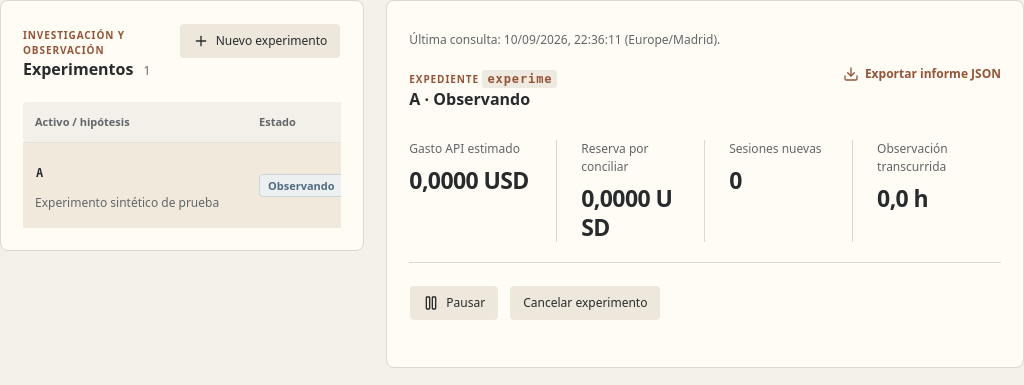
Controles del expediente de experimento › envía pause y muestra el estado leído del motor
The image size is (1024, 385).
What coordinates should you click on to do the following:
click the button "Pausar"
I would click on:
 (454, 303)
Its box is [409, 285, 499, 321].
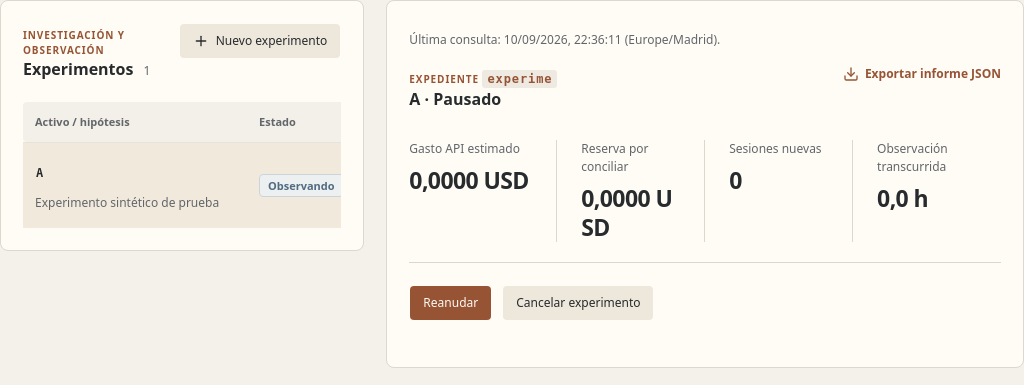
Expected: the heading "A · Pausado" is shown, [409, 88, 501, 110]
